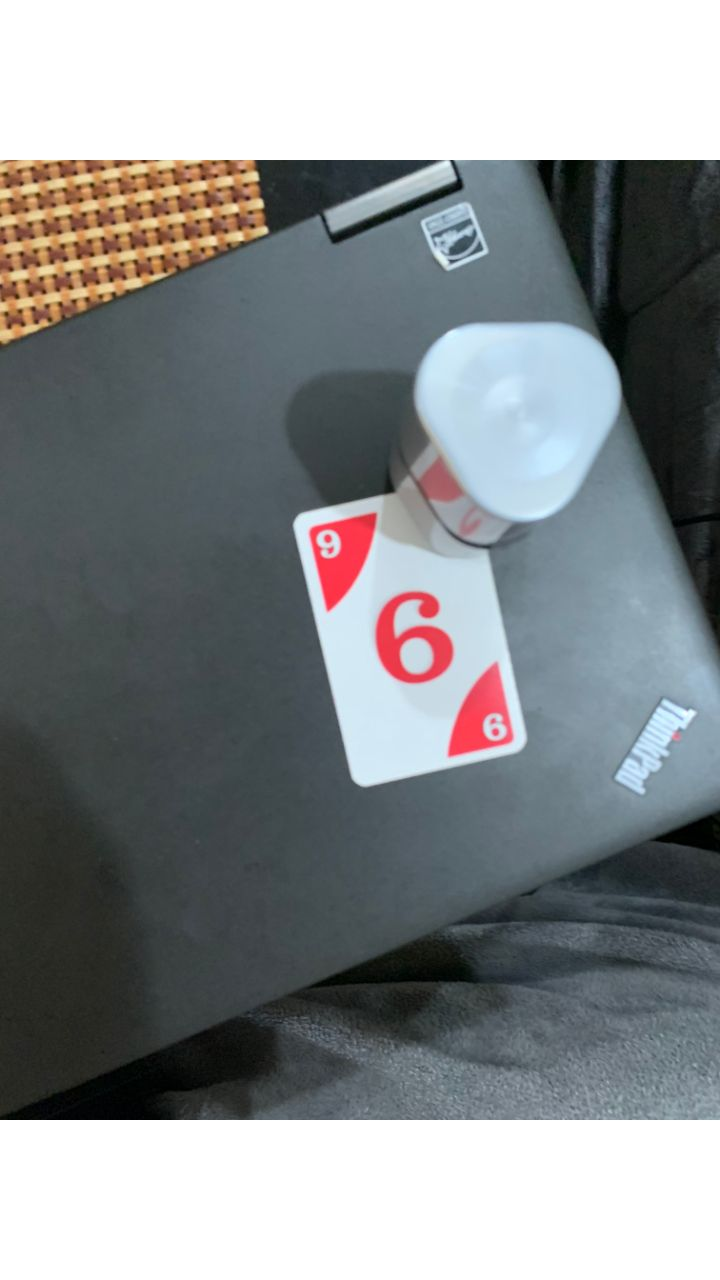six: (295, 490, 525, 790)
